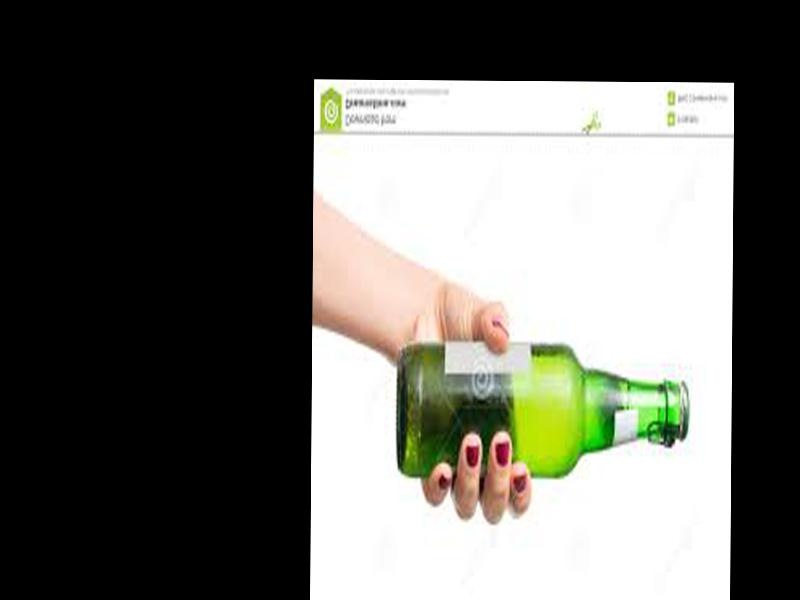Beer: (397, 337, 690, 488)
